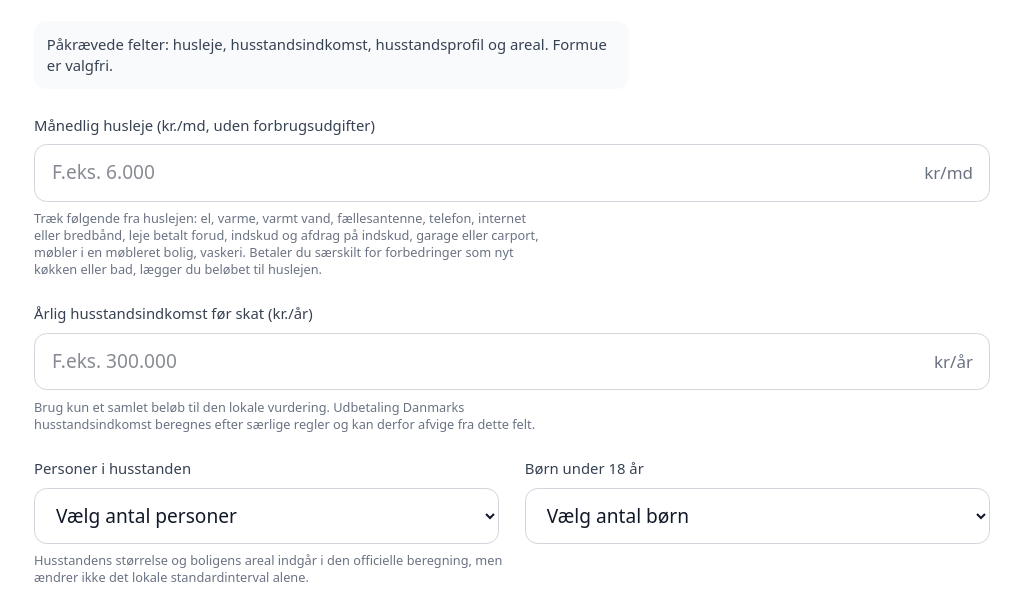
BoligstoetteBeregner › kræver antal børn før resultat og deling
In the number field labelled "Månedlig husleje (kr./md, uden forbrugsudgifter)": (512, 173) [34,144,990,202], type "6000"
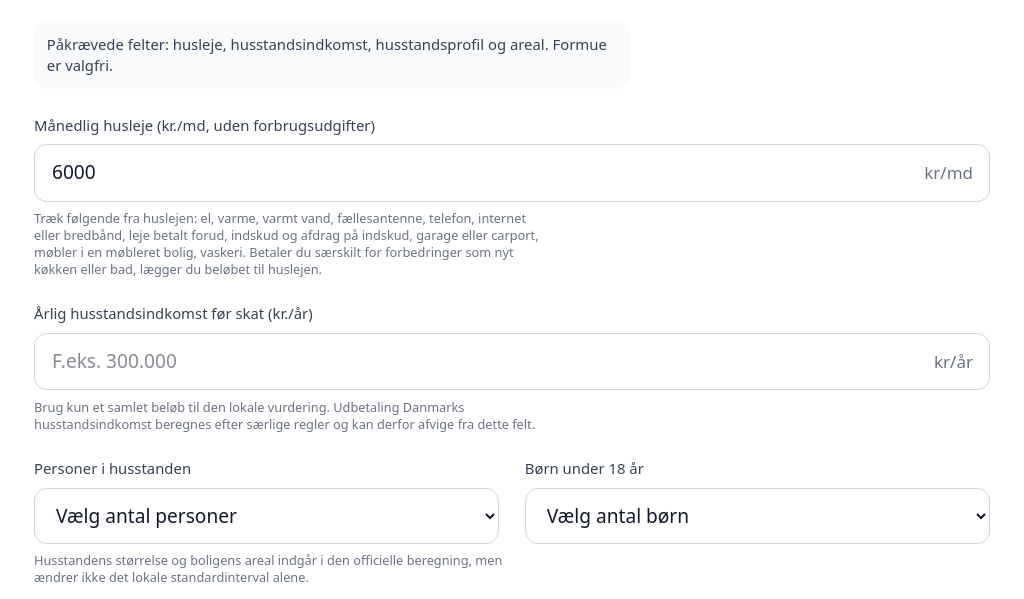
In the number field labelled "Årlig husstandsindkomst før skat (kr./år)": (512, 362) [34,333,990,390], type "216000"
(page scrolled)
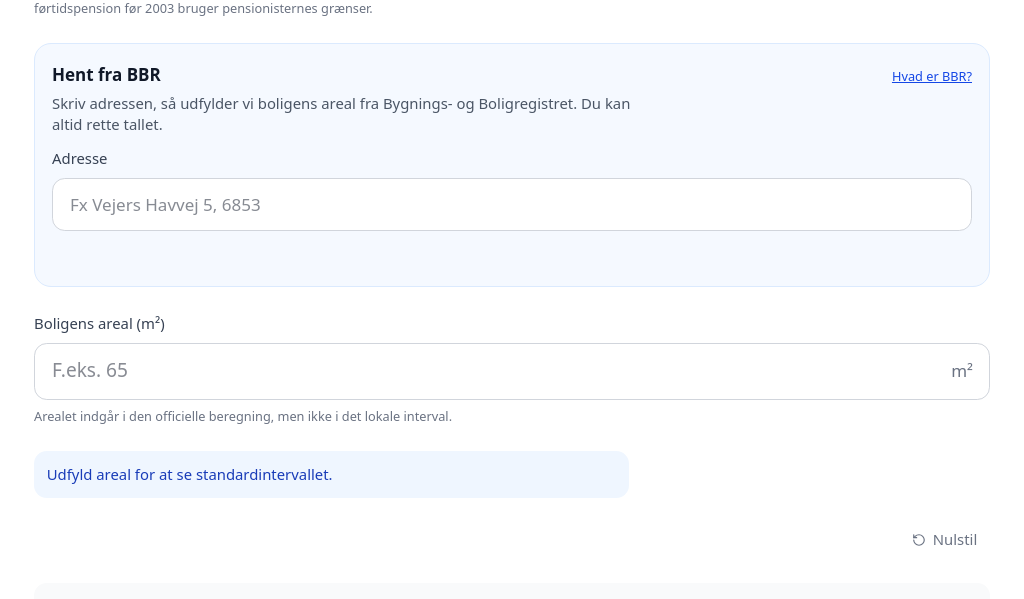
In the number field labelled "Boligens areal (m²)": (512, 371) [34,343,990,400], type "65"
(page scrolled)
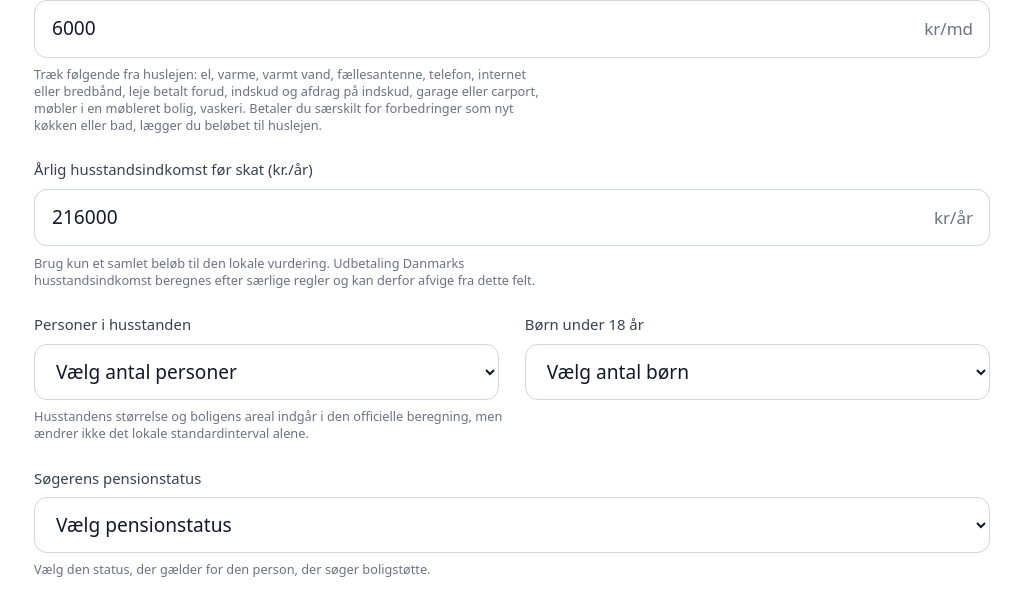
Select "1 person" in the dropdown labelled "Personer i husstanden": (267, 372) [34,344,499,400]
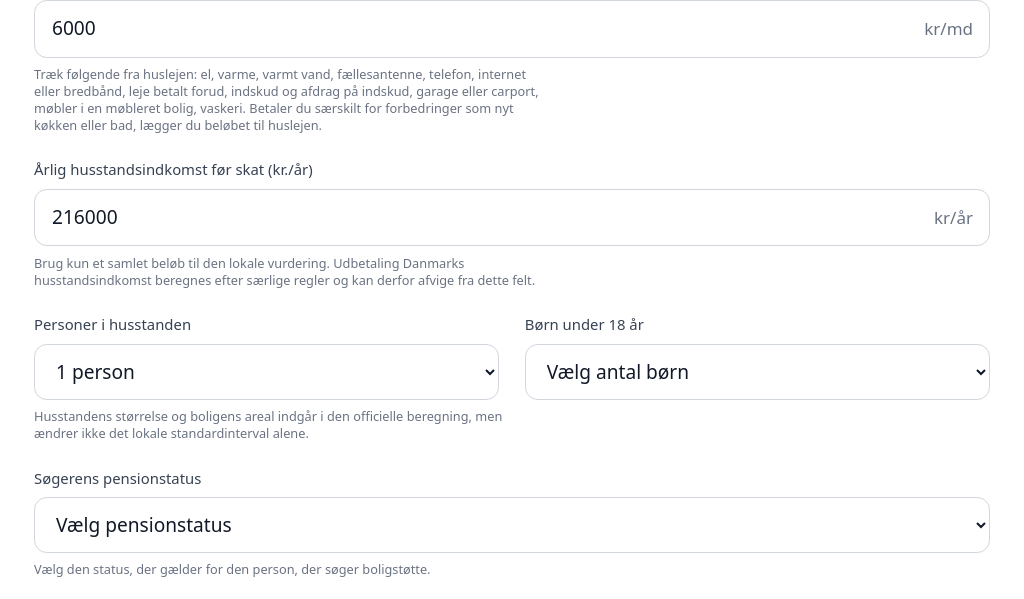
Select "Ikke pensionist" in the dropdown labelled "Søgerens pensionstatus": (512, 525) [34,497,990,553]
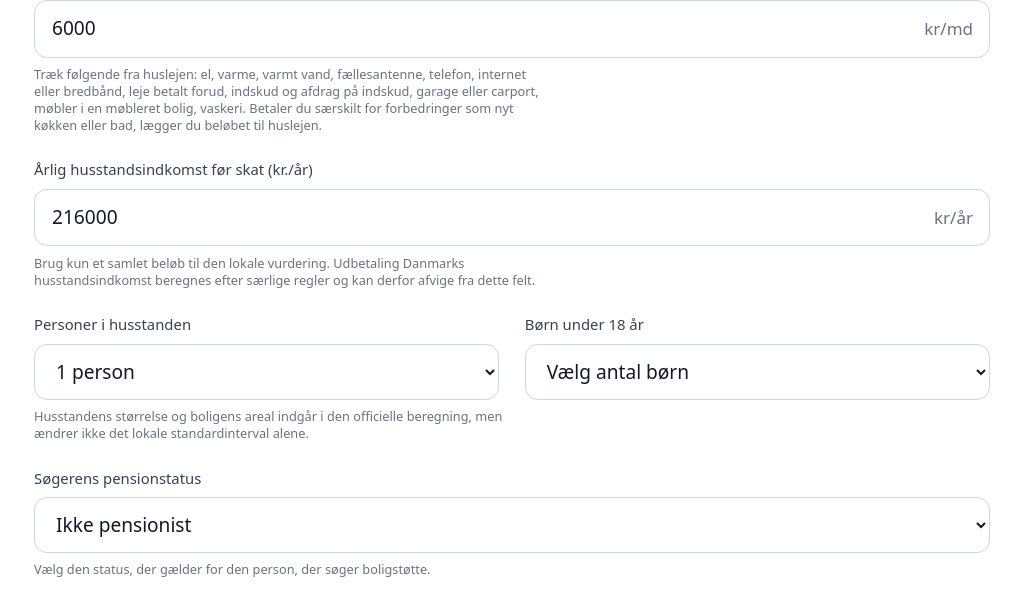
Expected: the text "Vejledende standardinterval" is not shown
Expected: the button "Del beregning" is not shown
Select "0 børn" in the dropdown labelled "Børn under 18 år": (757, 372) [525,344,990,400]
(page scrolled)
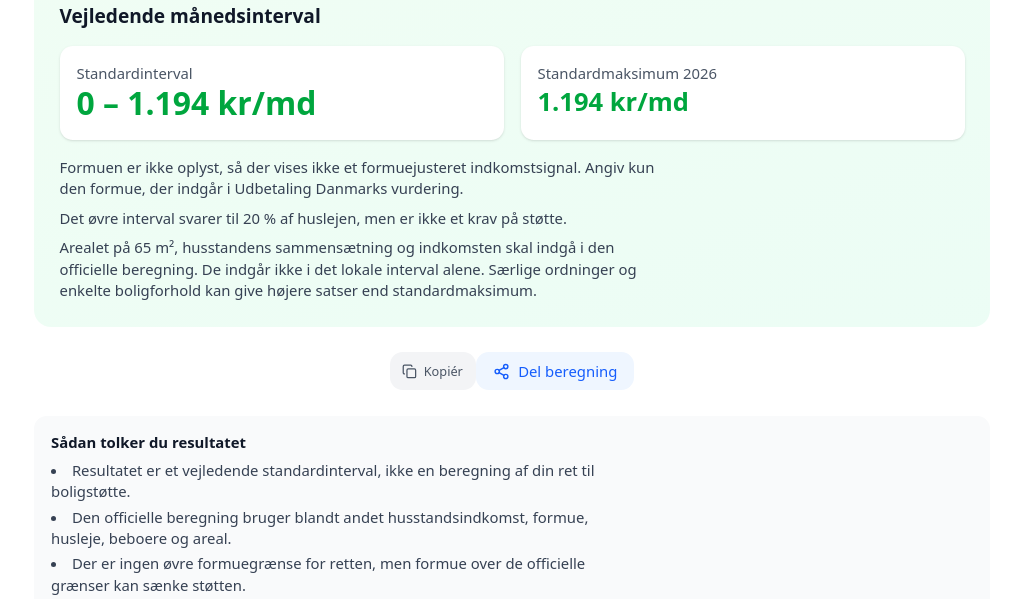
Now the button "Del beregning" is shown, box [476,352,634,390]
